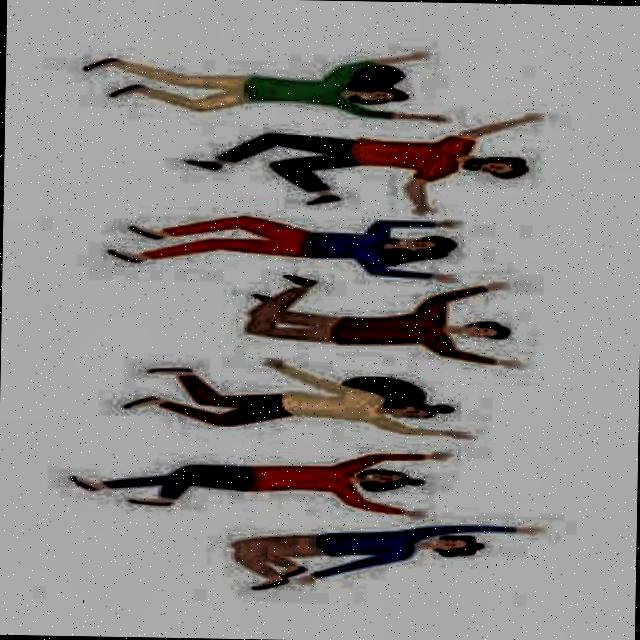happy: (363, 389, 459, 431), (331, 463, 441, 498), (399, 525, 507, 557), (460, 149, 542, 183), (384, 230, 460, 264), (329, 80, 412, 110), (439, 315, 514, 345)
